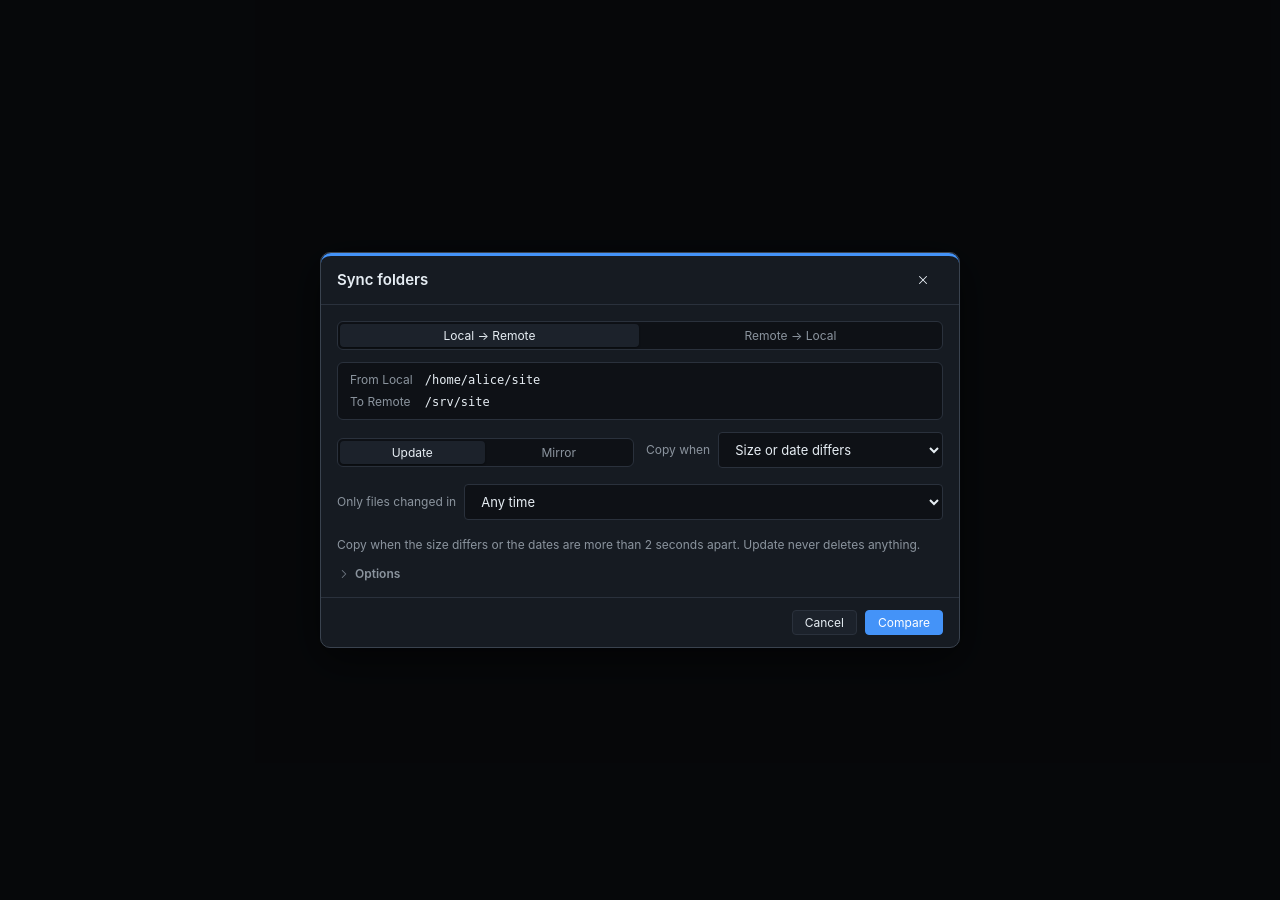
SyncDialog › compares and shows the plan grouped with counts
Click the button "Compare" at [904, 622], box top-left (865, 610), bottom-right (943, 635)
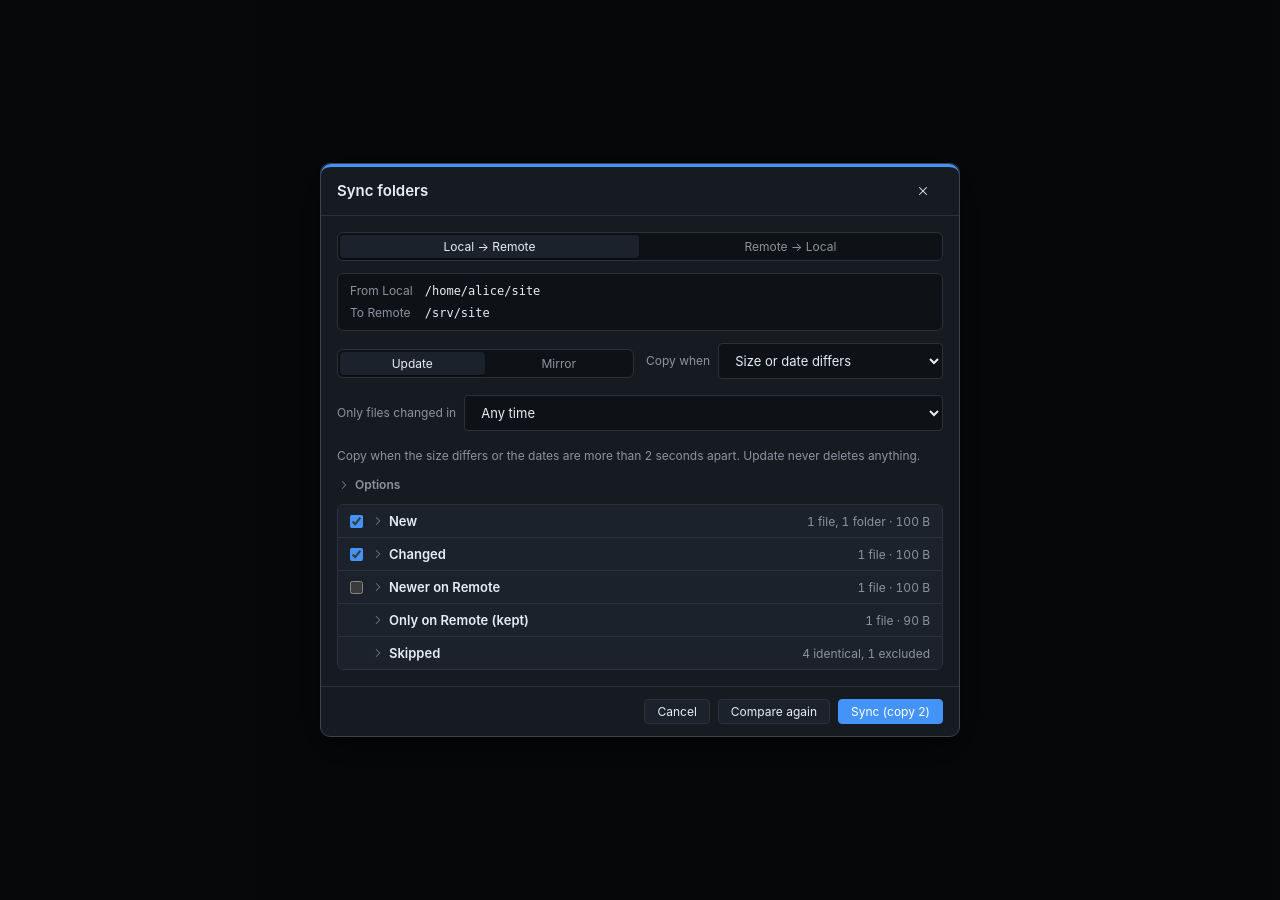
Result: the element "New 1 file, 1 folder · 100 B" is shown at top-left (338, 505), bottom-right (942, 537)
Result: the element "Changed 1 file · 100 B" is shown at top-left (338, 537), bottom-right (942, 570)
Result: the element "Newer on Remote 1 file · 100 B" is shown at top-left (338, 570), bottom-right (942, 603)
